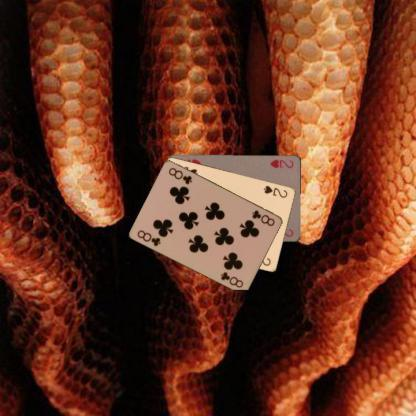2h: (268, 156, 295, 170)
2s: (261, 182, 289, 198)
8c: (134, 227, 162, 247), (249, 207, 276, 227)
